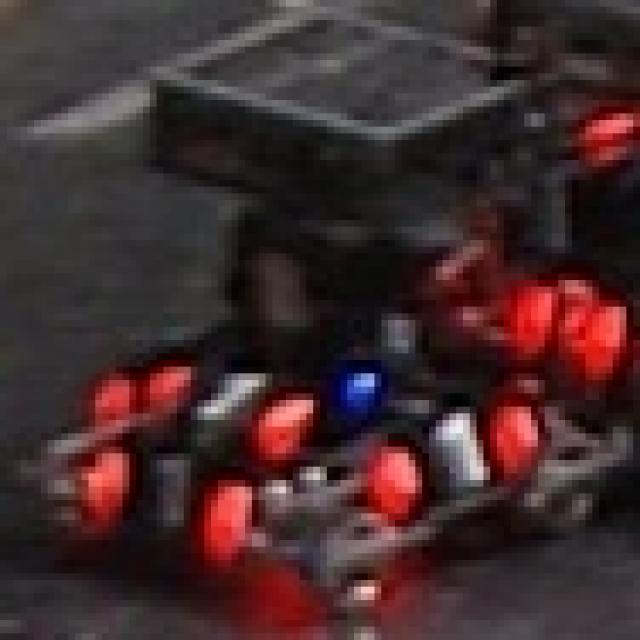R1: (361, 393, 538, 507), (95, 447, 245, 553), (143, 353, 320, 427)
